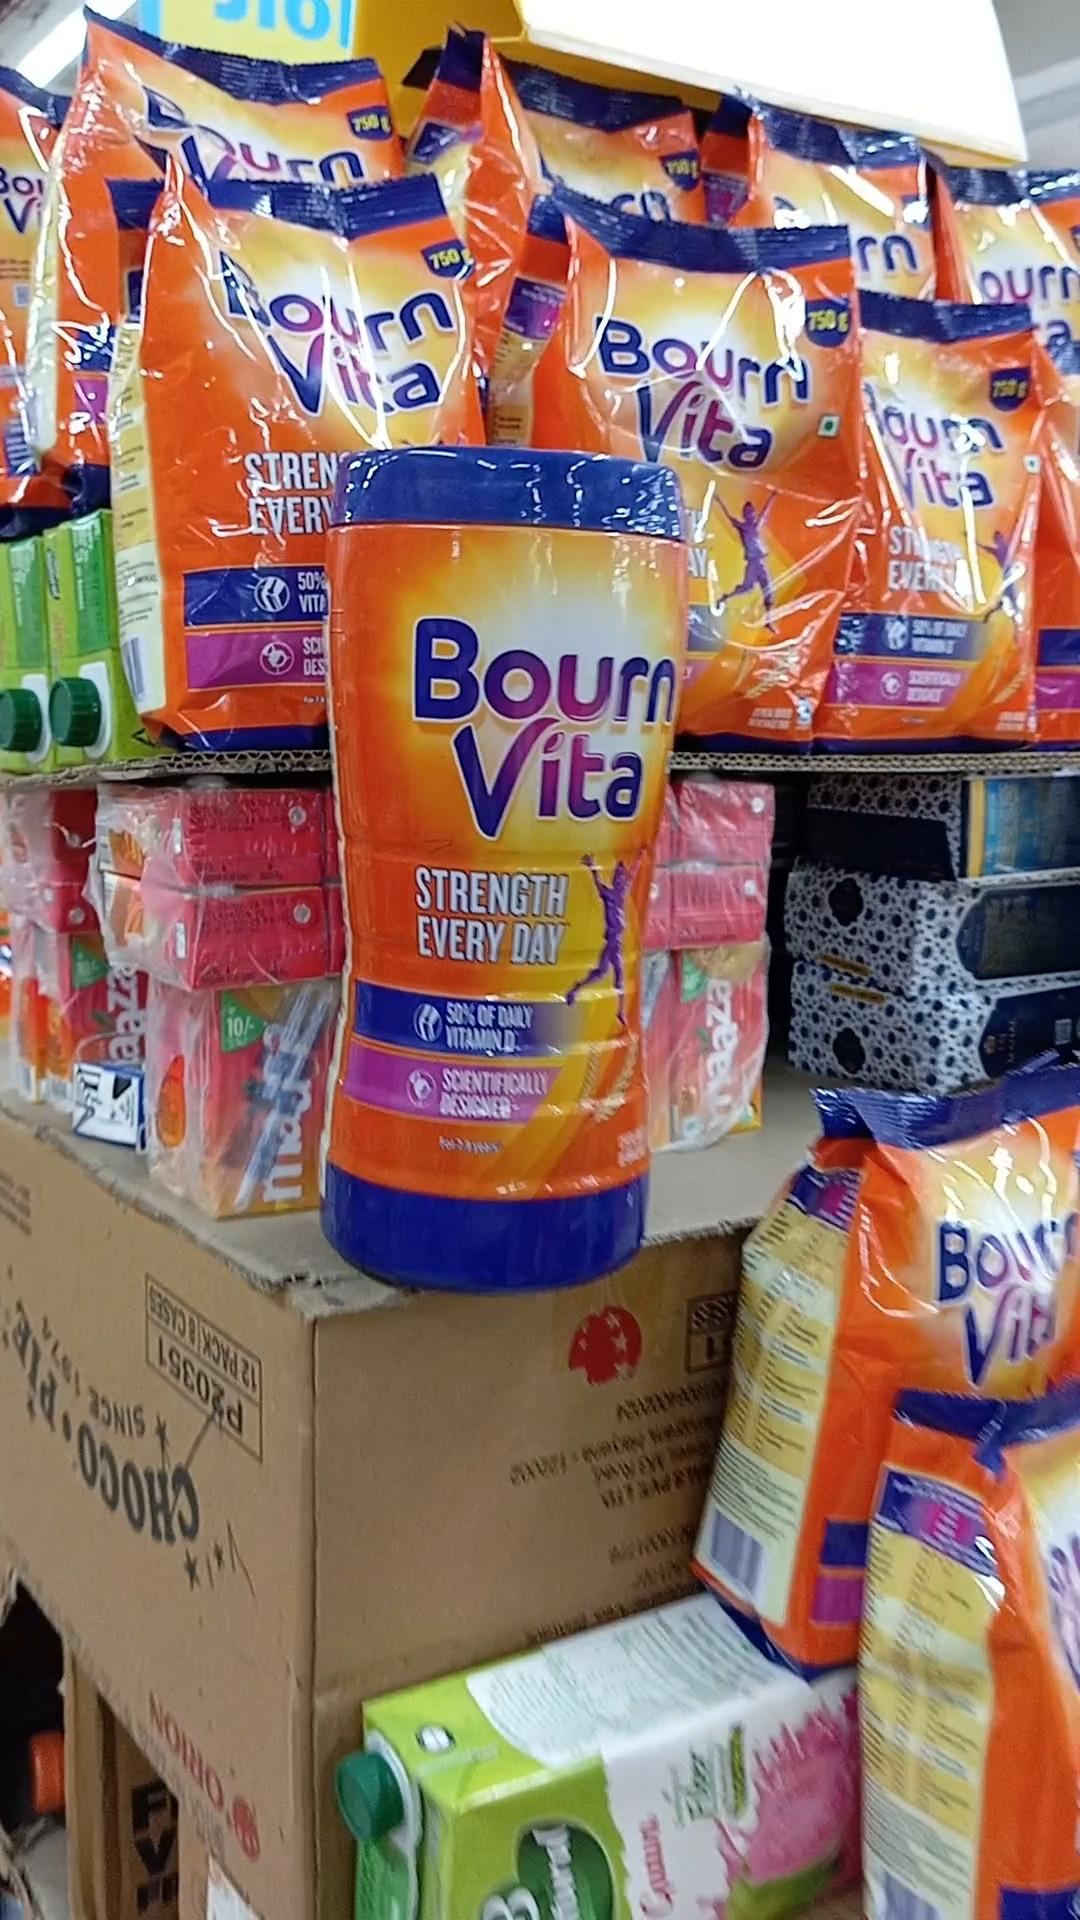BOURN_VITA_1_KG_JAR: (326, 443, 649, 1279)
